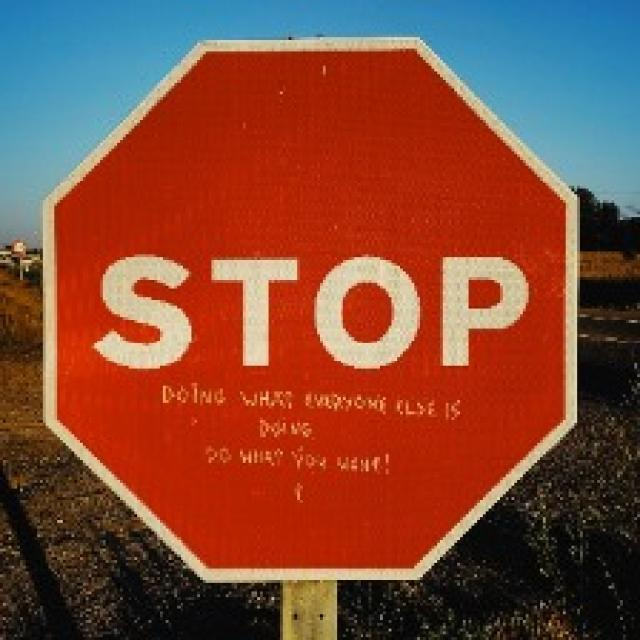stop: (39, 35, 581, 584)
